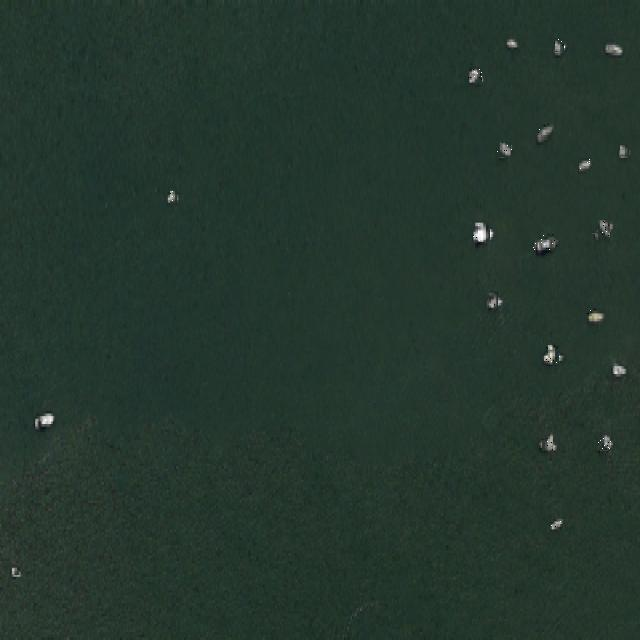boat: (533, 234, 558, 250), (473, 223, 492, 241), (34, 411, 54, 427), (545, 345, 561, 363), (536, 124, 554, 140), (597, 220, 611, 236), (496, 142, 512, 156), (604, 40, 622, 52), (541, 435, 555, 450), (587, 308, 605, 319), (468, 68, 482, 82), (598, 436, 612, 449), (487, 293, 500, 307), (548, 516, 562, 527), (611, 361, 626, 371), (618, 144, 630, 156), (553, 39, 565, 51), (578, 158, 590, 169), (168, 190, 178, 202), (504, 37, 518, 45), (10, 566, 20, 574), (592, 230, 598, 236)
